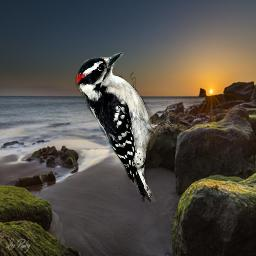Woodpecker: (75, 52, 184, 202)
